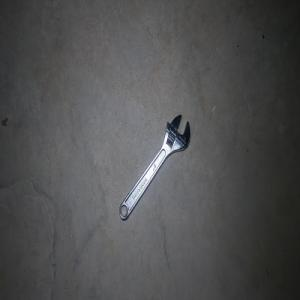Wrench: (119, 114, 190, 220)
